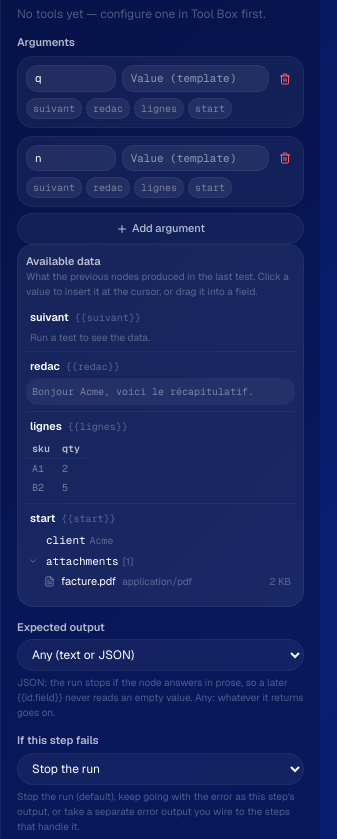
Test: Available data panel › asks to pick a field first when nothing is focused on a tool node
(page scrolled)
Click the button "client Acme": [80, 541] box [42,530,118,551]
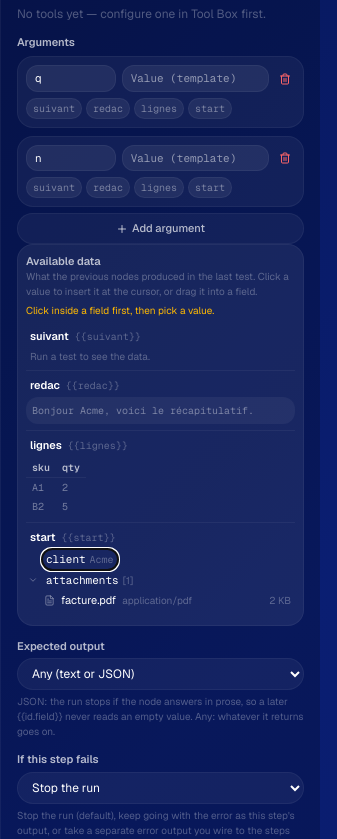
Expected: the text "Click inside a field first, then pick a value." is shown, [26,304,214,317]
